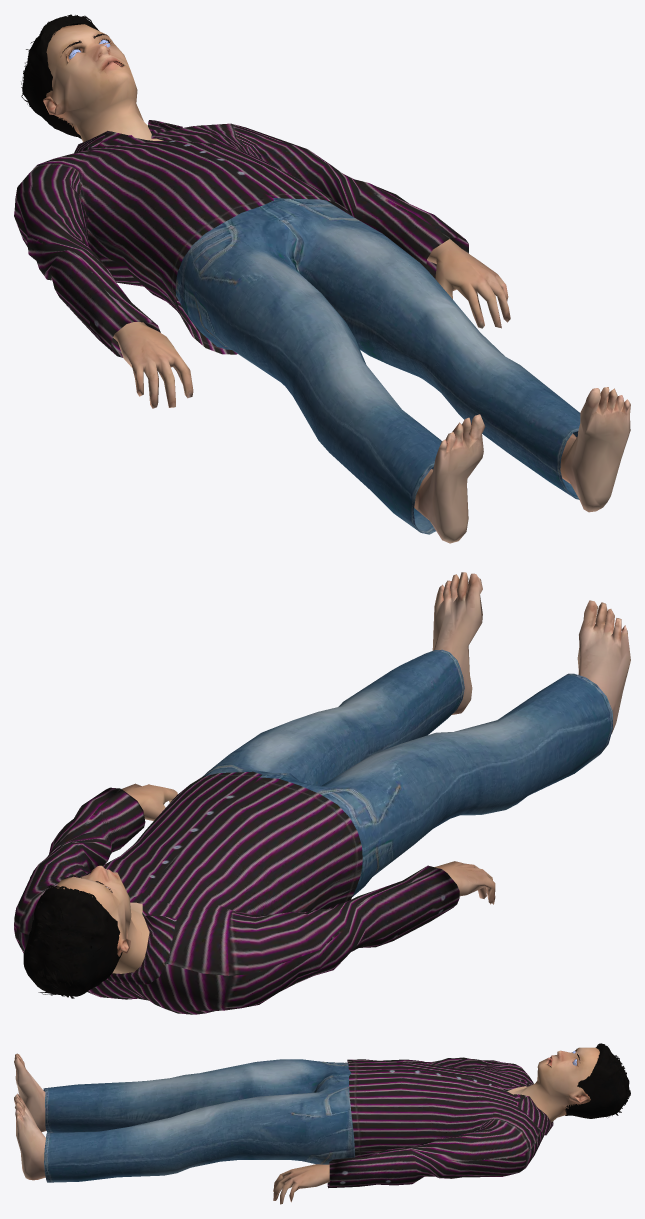
The model's file is person_carlos_lying.glb.
The picture shows the model from 3 angles, top to bottom: view 1: azimuth 30°, elevation 25°; view 2: azimuth 150°, elevation 25°; view 3: azimuth 270°, elevation 25°; orthographic projection. The views are drawn at different scales.
Visible parts, largest first — view 1: lie_carlos_body.male_casualsuit03, lie_carlos_body, lie_carlos_body.short01; view 2: lie_carlos_body.male_casualsuit03, lie_carlos_body, lie_carlos_body.short01; view 3: lie_carlos_body.male_casualsuit03, lie_carlos_body, lie_carlos_body.short01.
Part boxes in pixels (bbox=[...]): lie_carlos_body.male_casualsuit03: bbox=[14, 120, 580, 534]; lie_carlos_body: bbox=[43, 24, 630, 543]; lie_carlos_body.short01: bbox=[21, 14, 98, 139]; lie_carlos_body.male_casualsuit03: bbox=[14, 649, 612, 1014]; lie_carlos_body: bbox=[56, 572, 630, 973]; lie_carlos_body.short01: bbox=[23, 885, 122, 998]; lie_carlos_body.male_casualsuit03: bbox=[43, 1057, 553, 1188]; lie_carlos_body: bbox=[14, 1047, 599, 1204]; lie_carlos_body.short01: bbox=[565, 1043, 630, 1118].
Bounding box in the file's own units: 0.7563 × 0.3559 × 1.74.
7 materials, 7 textured.
